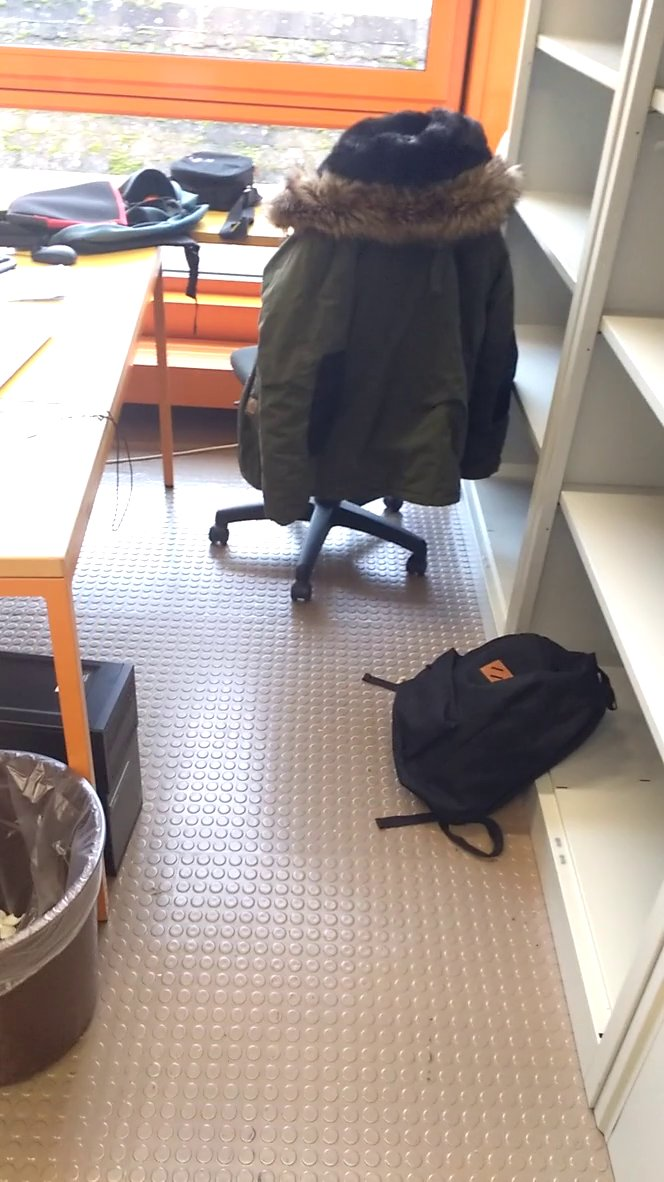bag: (359, 625, 629, 872)
